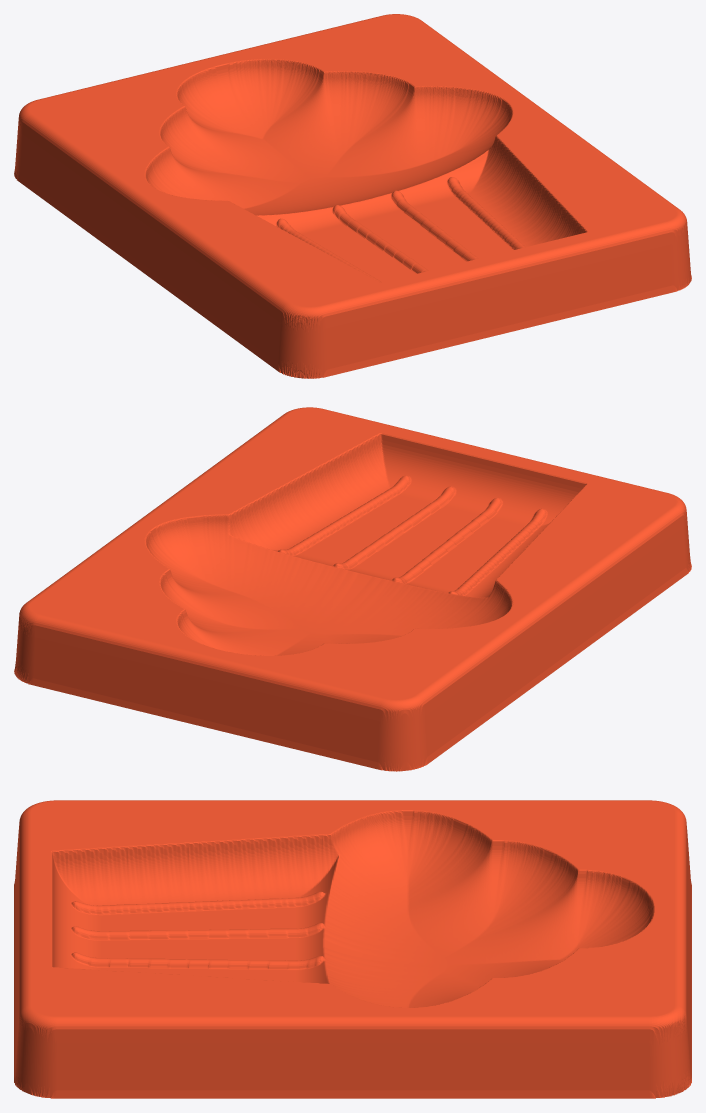
Rendered from mold.glb.
3 renders of one model, top to bottom at view 1: azimuth 30°, elevation 25°; view 2: azimuth 150°, elevation 25°; view 3: azimuth 270°, elevation 25°, orthographic. The views are drawn at different scales.
Parts seen in each view (by area): view 1: geometry_0; view 2: geometry_0; view 3: geometry_0.
Boxes of the visible parts, x1,y1,x2,y2 form: geometry_0: (14,14,691,378); geometry_0: (14,407,691,771); geometry_0: (14,800,691,1098).
Size of the model in its own units: 0.1148 by 0.0175 by 0.1435.
